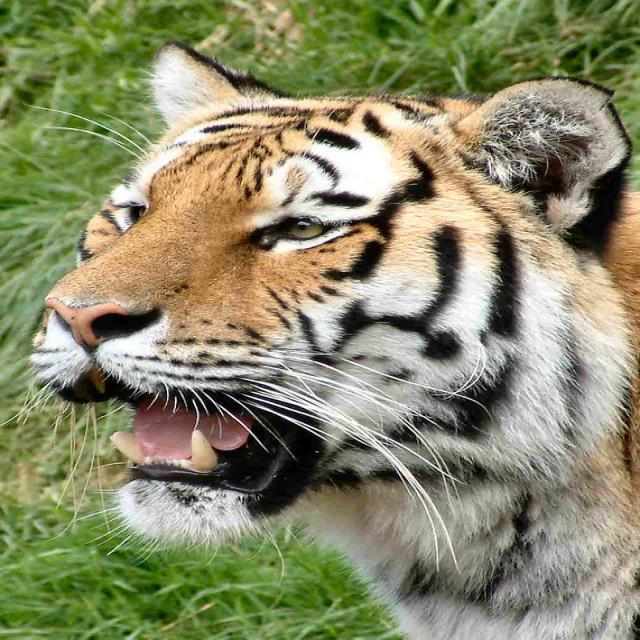Tiger: (24, 36, 636, 638)
